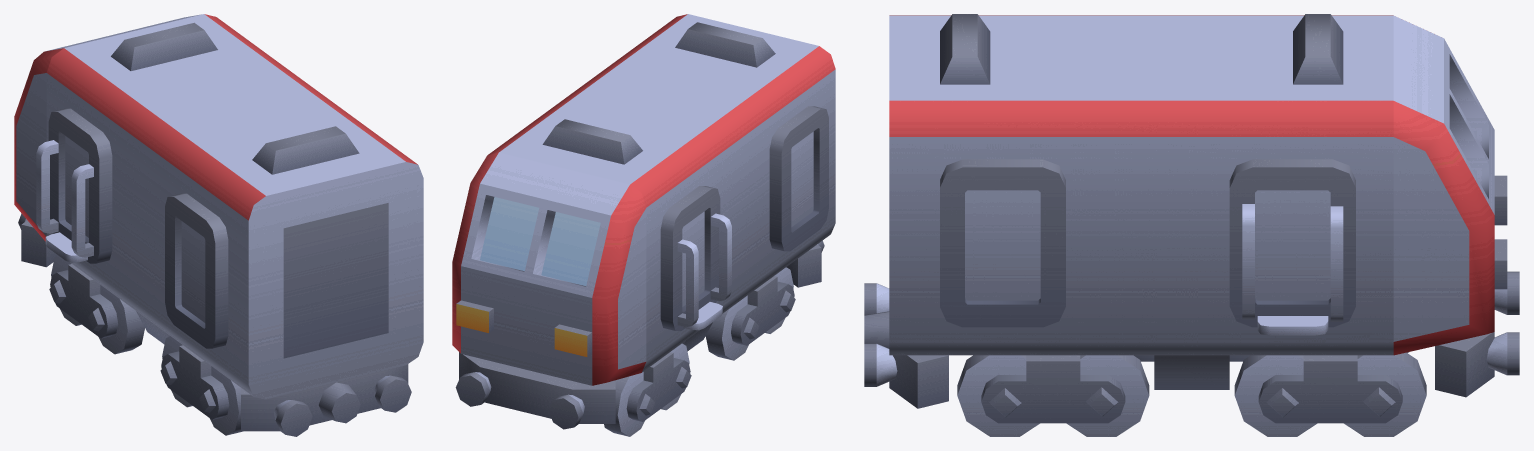
The model's file is train.glb.
The picture shows the model from 3 angles, left to right: view 1: azimuth 30°, elevation 25°; view 2: azimuth 150°, elevation 25°; view 3: azimuth 270°, elevation 25°; orthographic projection. The views are drawn at different scales.
Visible parts, largest first — view 1: train-electric-subway-a, wheels-front, wheels-back; view 2: train-electric-subway-a, wheels-back, wheels-front; view 3: train-electric-subway-a, wheels-front, wheels-back.
Boxes of the visible parts, x1,y1,x2,y2 form: train-electric-subway-a: (14, 14, 423, 436); wheels-front: (49, 255, 144, 354); wheels-back: (160, 336, 242, 435); train-electric-subway-a: (452, 14, 835, 429); wheels-back: (705, 267, 795, 360); wheels-front: (604, 343, 691, 436); train-electric-subway-a: (864, 14, 1519, 408); wheels-front: (1234, 352, 1426, 436); wheels-back: (957, 355, 1149, 436).
Bounding box in the file's own units: 1.35 × 1.57 × 2.6.
1 material, 1 textured.
